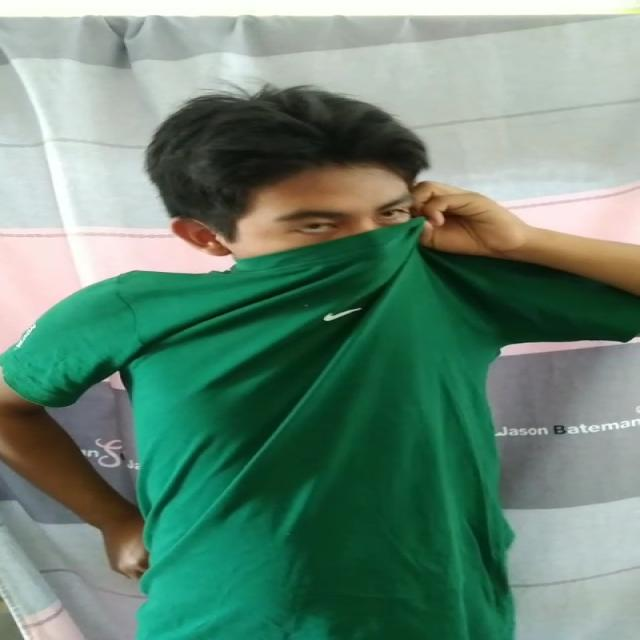8_ropa_rostro: (226, 205, 531, 316)
